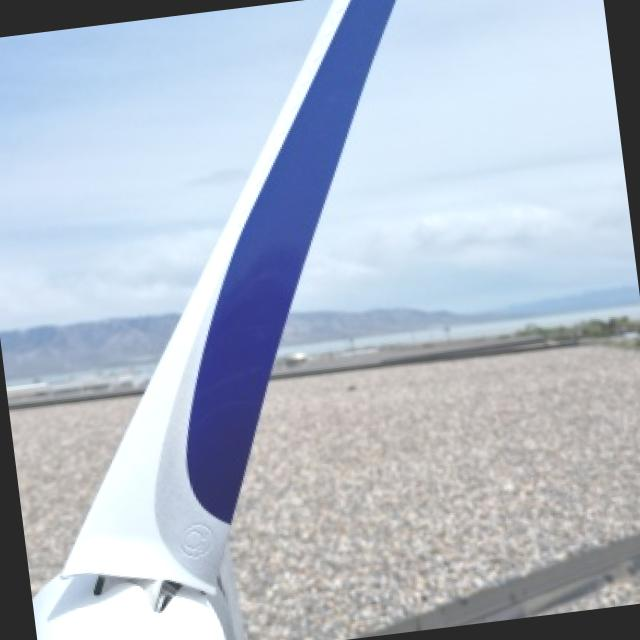healthy: (69, 190, 259, 585), (34, 576, 233, 640)
